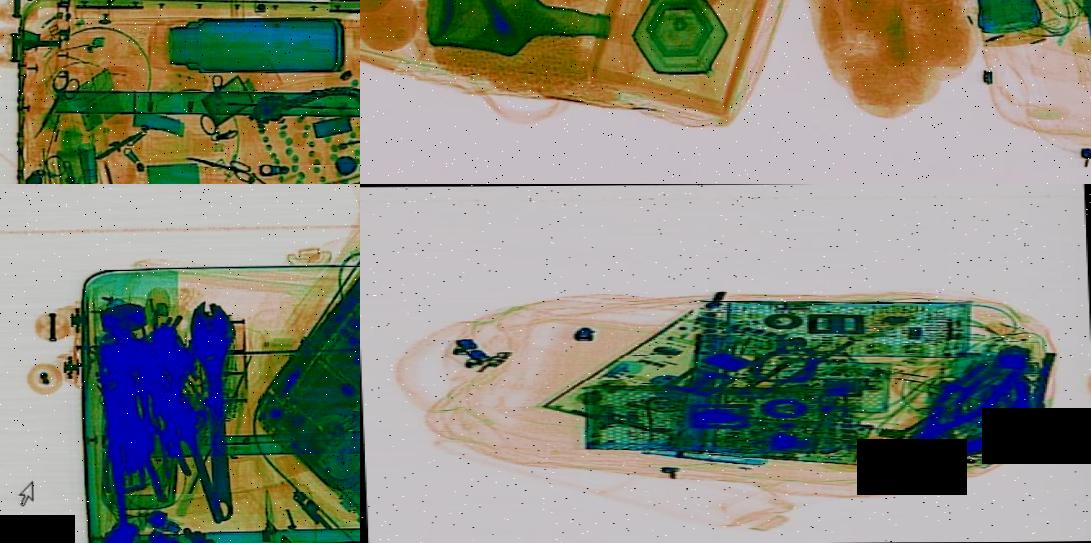Pliers: (864, 356, 1039, 470)
Scissors: (23, 66, 91, 140), (182, 147, 260, 182)
Wrench: (190, 298, 244, 522)
